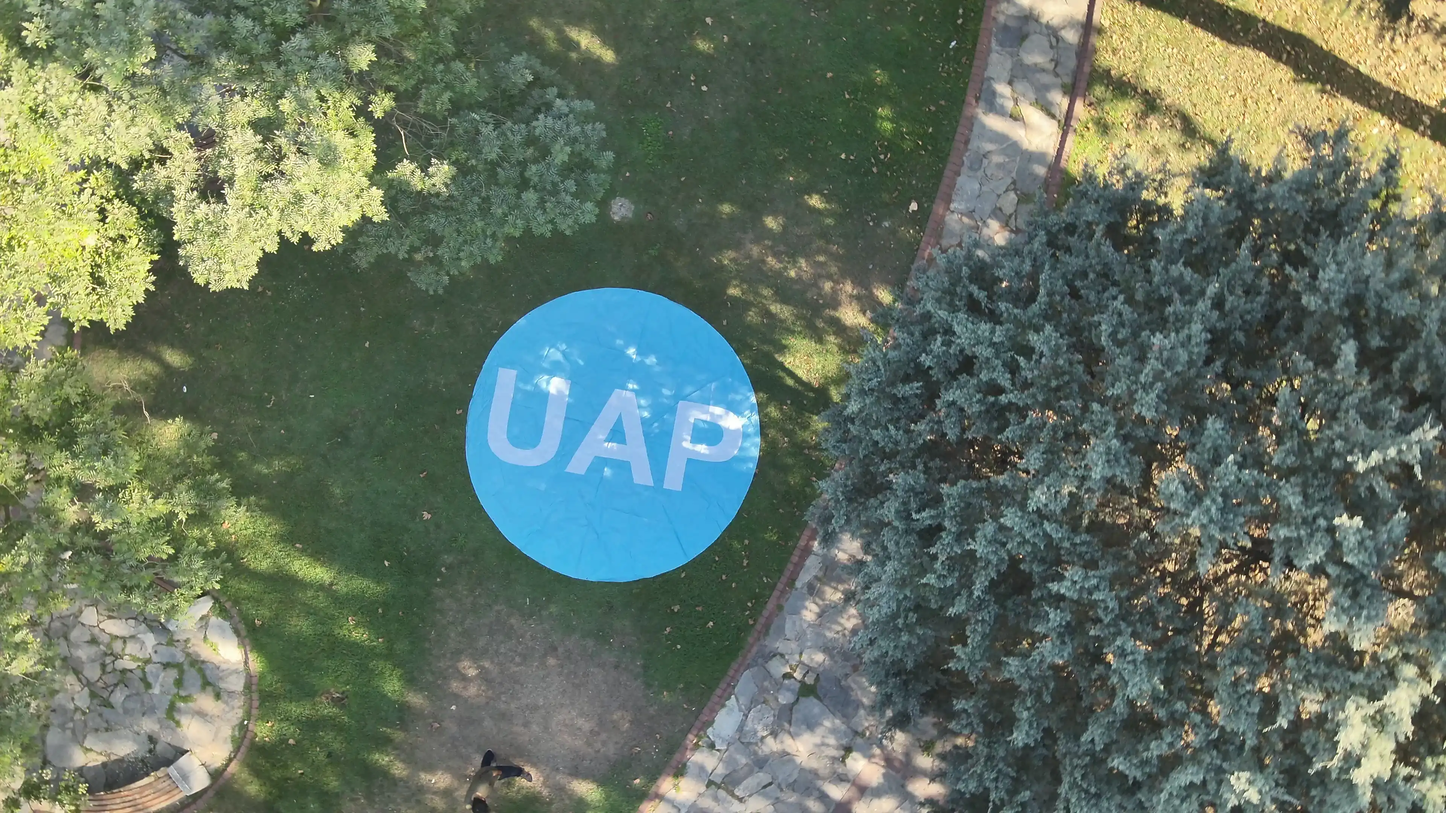UAP: (463, 289, 756, 582)
